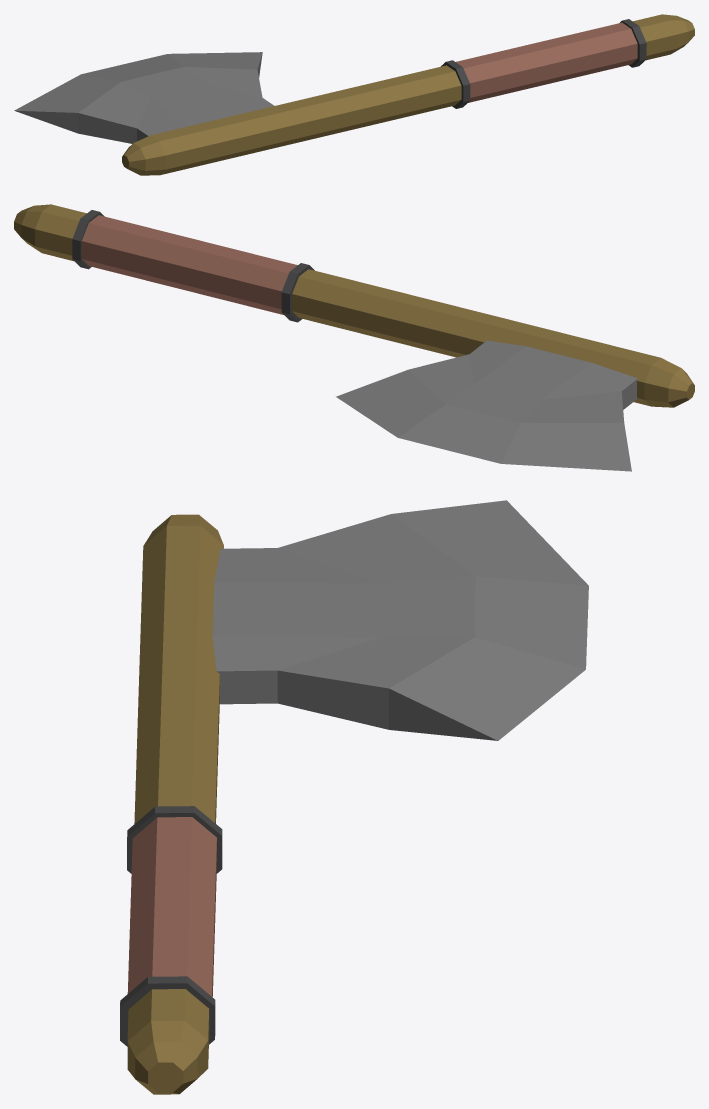
File: Hatchet.fbx
The picture shows the model from 3 angles, top to bottom: view 1: azimuth 30°, elevation 25°; view 2: azimuth 150°, elevation 25°; view 3: azimuth 270°, elevation 25°; orthographic projection. The views are drawn at different scales.
Visible parts, largest first — view 1: Cube.001; view 2: Cube.001; view 3: Cube.001.
Part boxes in pixels (bbox=[...]): Cube.001: bbox=[14, 14, 694, 175]; Cube.001: bbox=[14, 204, 694, 471]; Cube.001: bbox=[120, 500, 588, 1094].
Bounding box in the file's own units: 130 × 8.45 × 44.72.
